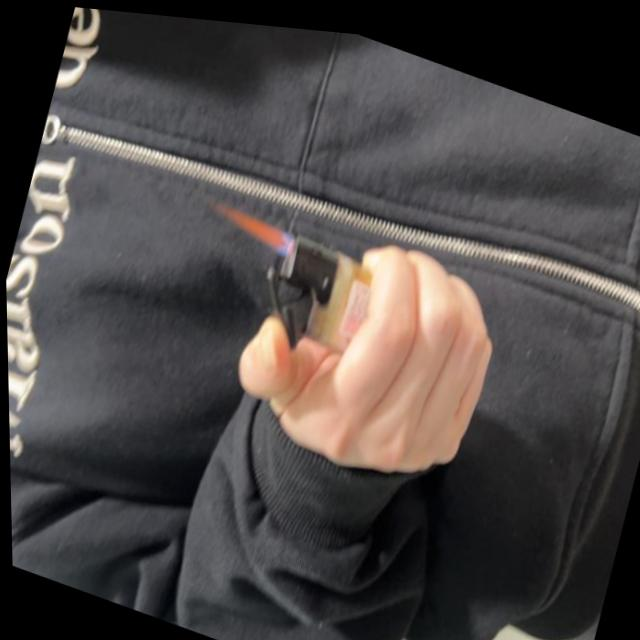Fire: (205, 193, 293, 246)
